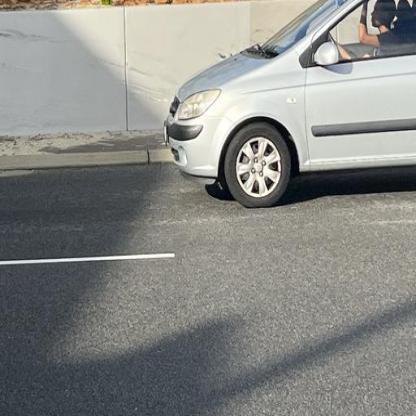Tire: (224, 121, 291, 209)
